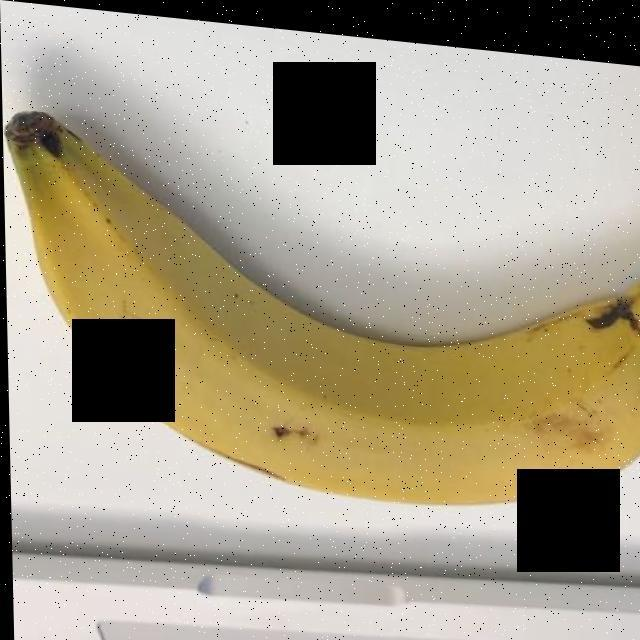banana: (6, 125, 629, 473)
